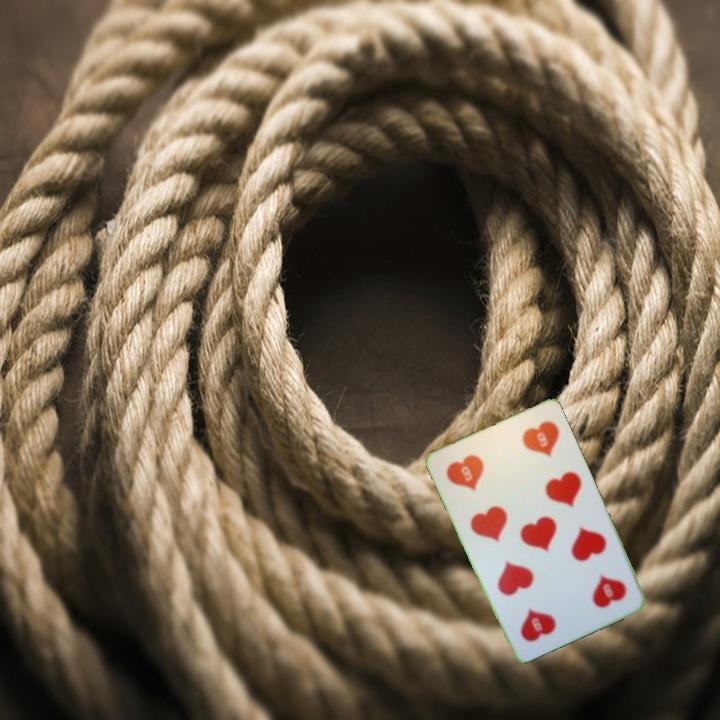h_9.png: (554, 549, 637, 628), (435, 434, 518, 513)
